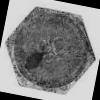hexagonal: (0, 1, 100, 99)
